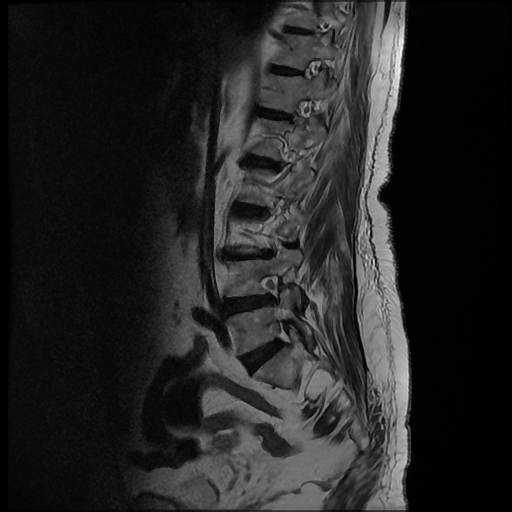RFS0: (250, 268, 292, 311), (258, 314, 300, 357)
